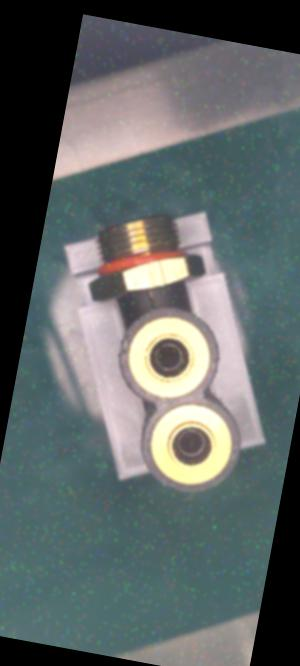craze: (143, 288, 161, 309)
